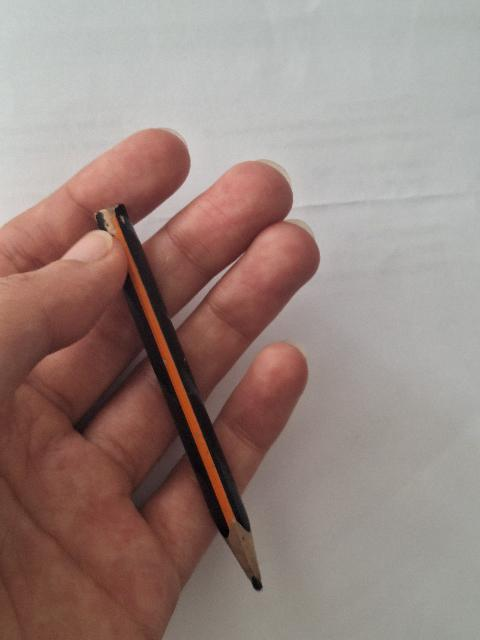writing_tool: (91, 196, 270, 593)
